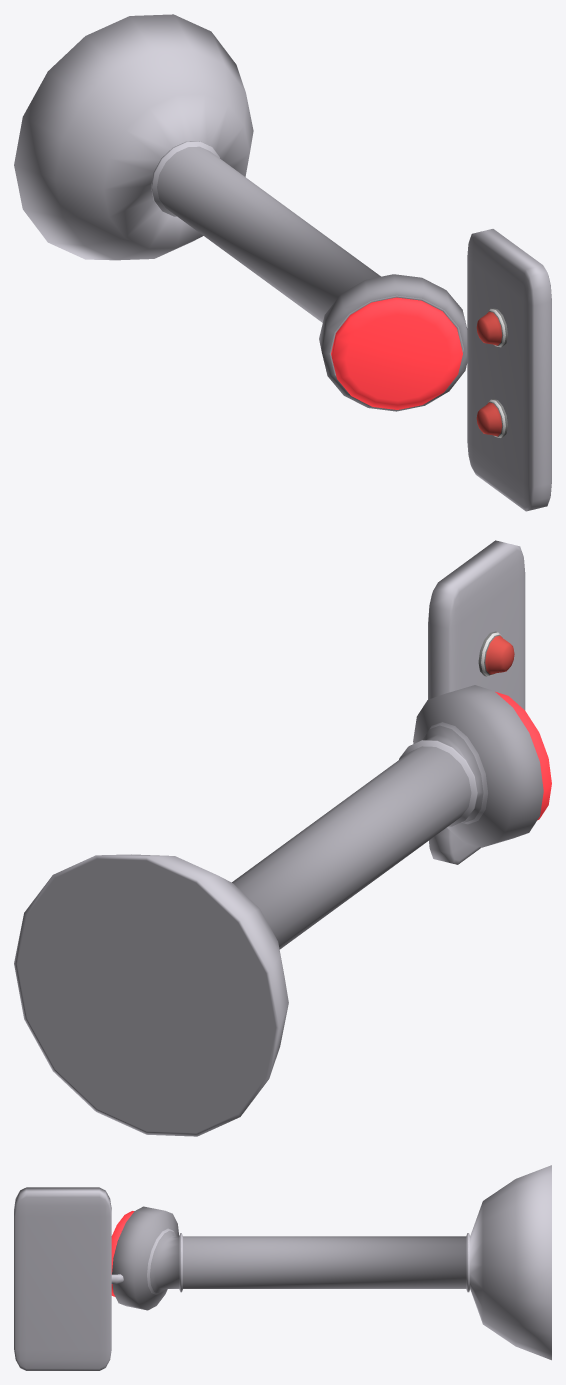
File: obj_button2.glb
The picture shows the model from 3 angles, top to bottom: view 1: azimuth 30°, elevation 25°; view 2: azimuth 150°, elevation 25°; view 3: azimuth 270°, elevation 25°; orthographic projection. The views are drawn at different scales.
Visible parts, largest first — view 1: obj_base, obj_sign, obj_button, obj_lamp; view 2: obj_base, obj_sign, obj_lamp, obj_button; view 3: obj_base, obj_sign, obj_button.
Boxes of the visible parts, box(x1,y1,x2,y2) form: obj_base: box(14, 14, 467, 411); obj_sign: box(467, 229, 551, 511); obj_button: box(331, 297, 462, 409); obj_lamp: box(476, 308, 507, 437); obj_base: box(14, 685, 543, 1136); obj_sign: box(428, 540, 525, 864); obj_lamp: box(478, 631, 514, 676); obj_button: box(495, 691, 551, 820); obj_base: box(112, 1165, 551, 1360); obj_sign: box(14, 1187, 123, 1370); obj_button: box(111, 1211, 134, 1296).
Bounding box in the file's own units: 2.4 × 2.4 × 6.6.
